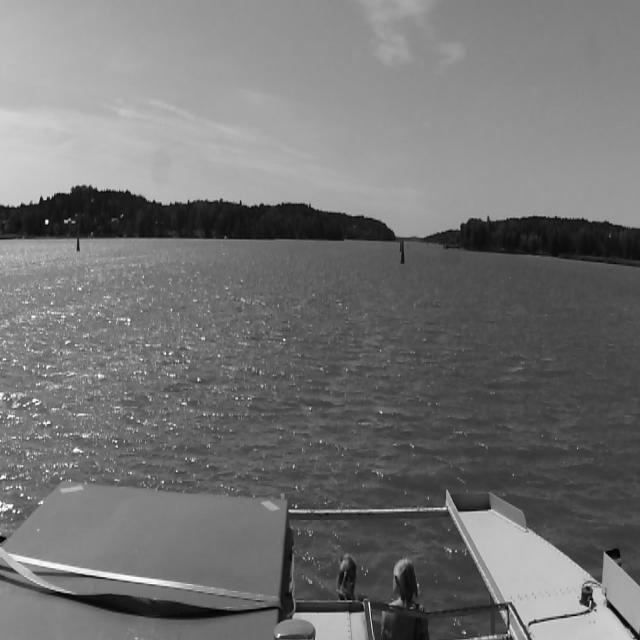buoy: (400, 240, 406, 262), (398, 235, 402, 252), (76, 236, 80, 252)
